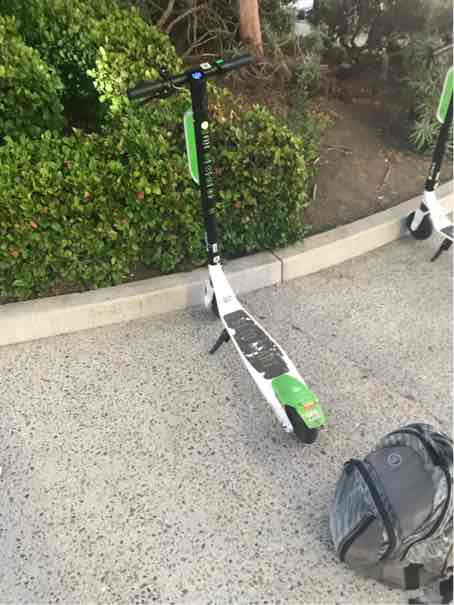scooter: (126, 62, 344, 445)
